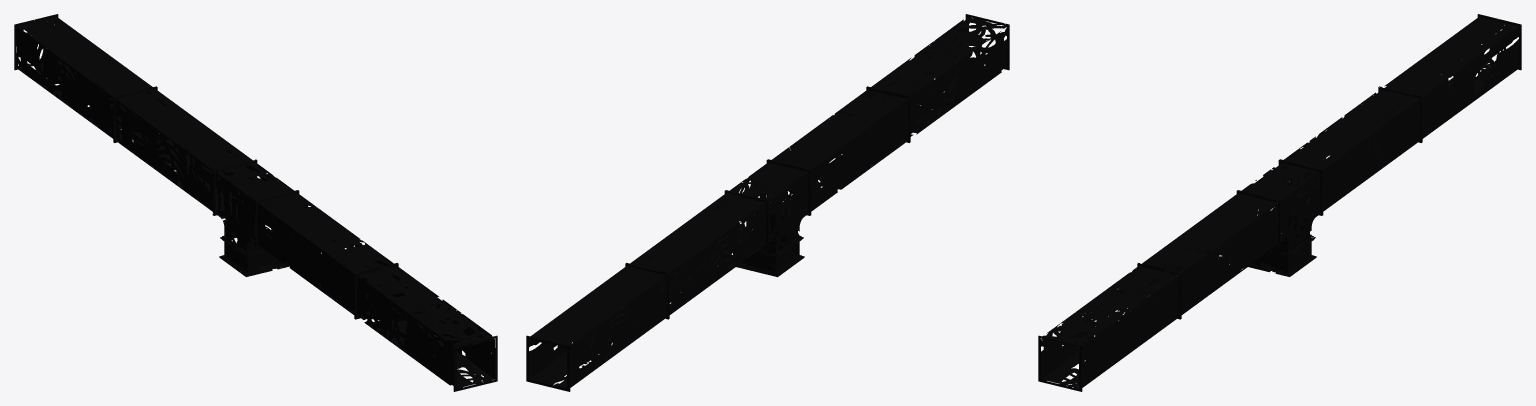
File: tubi_rett_modulo.fbx
3 views of the same model, side by side, from view 1: azimuth 30°, elevation 25°; view 2: azimuth 150°, elevation 25°; view 3: azimuth 330°, elevation 25° (orthographic).
Parts seen in each view (by area): view 1: Tubo_rettangolare_modulo; view 2: Tubo_rettangolare_modulo; view 3: Tubo_rettangolare_modulo.
Boxes of the visible parts, <box> form: Tubo_rettangolare_modulo: <box>14,14,497,391</box>; Tubo_rettangolare_modulo: <box>526,14,1009,391</box>; Tubo_rettangolare_modulo: <box>1038,14,1521,391</box>.
Bounding box in the file's own units: 37.21 × 62.45 × 612.
